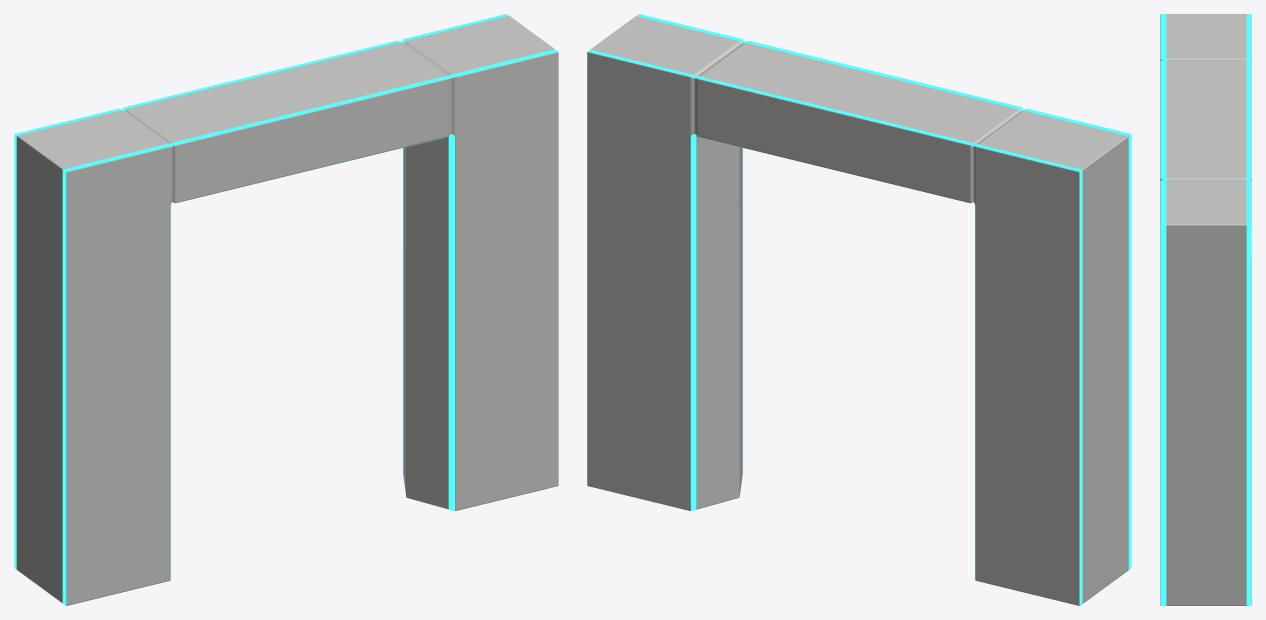
Rendered from Doorway.fbx.
3 renders of one model, left to right at view 1: azimuth 30°, elevation 25°; view 2: azimuth 150°, elevation 25°; view 3: azimuth 270°, elevation 25°, orthographic. The views are drawn at different scales.
Visible parts, largest first — view 1: Doorway; view 2: Doorway; view 3: Doorway.
Part boxes in pixels (x1,y1,x2,y2): Doorway: (14,14,558,605); Doorway: (587,14,1131,605); Doorway: (1160,14,1251,605).
Size of the model in its own units: 598 by 504 by 110.
